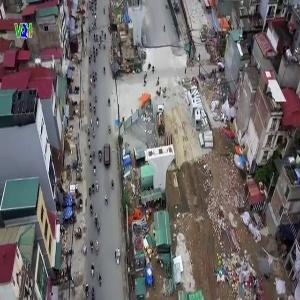drone: (31, 150, 93, 212)
